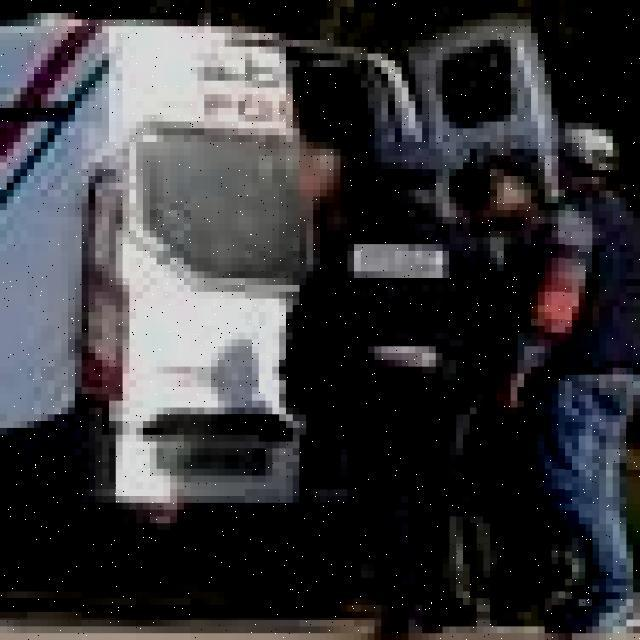police: (0, 13, 565, 620)
